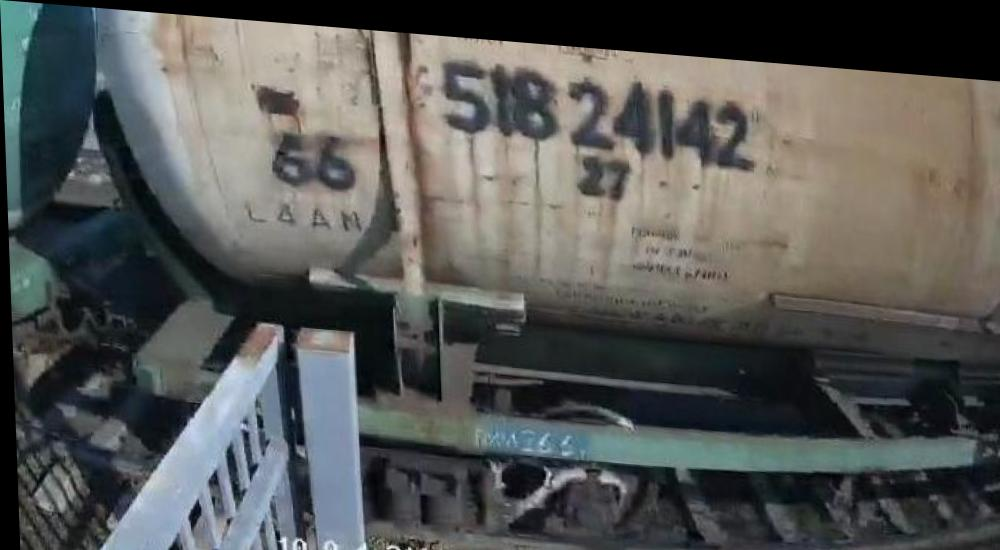Wagon-number: (435, 48, 759, 160)
